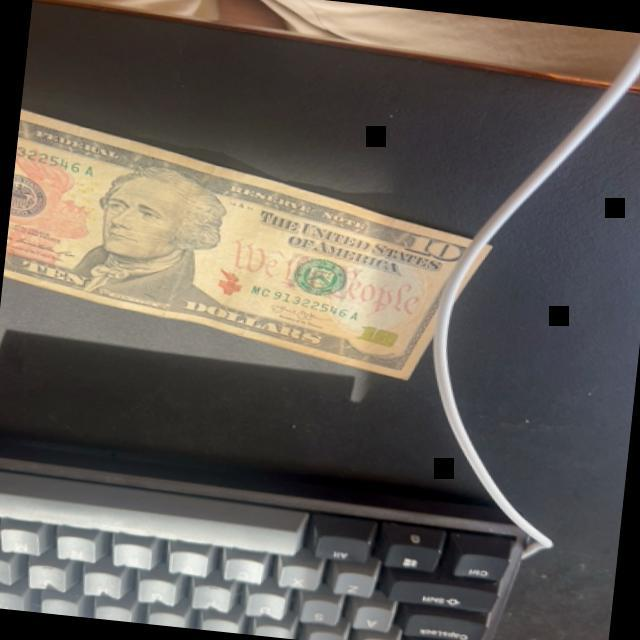ten: (0, 98, 500, 387)
